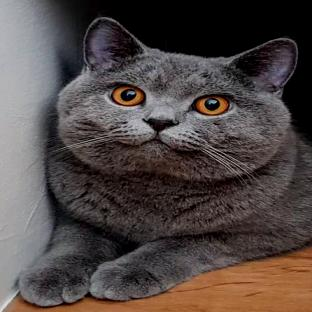Animal: (19, 17, 312, 306)
